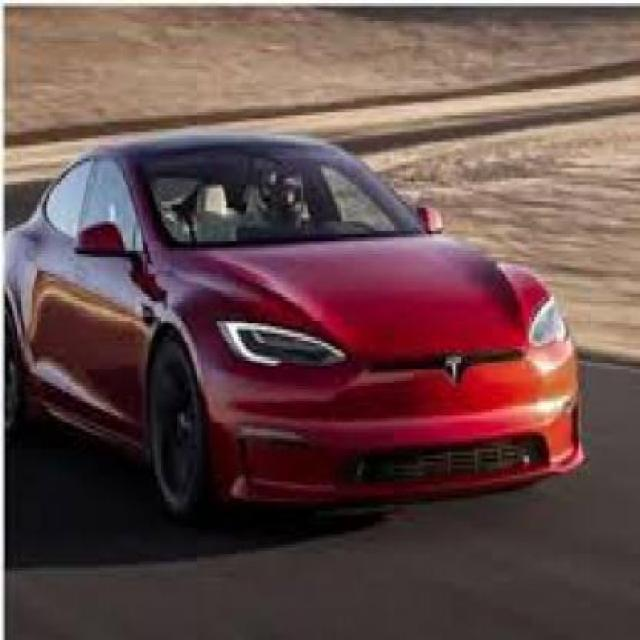vehicle: (4, 122, 592, 530)
